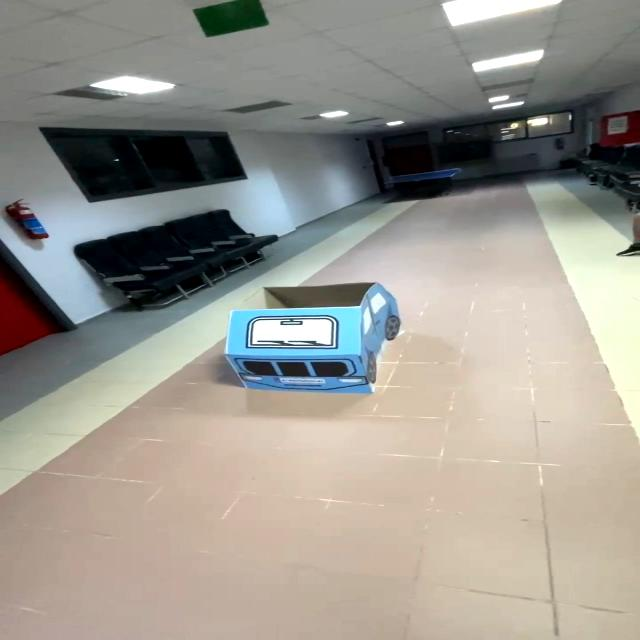blue_car: (194, 269, 418, 410)
